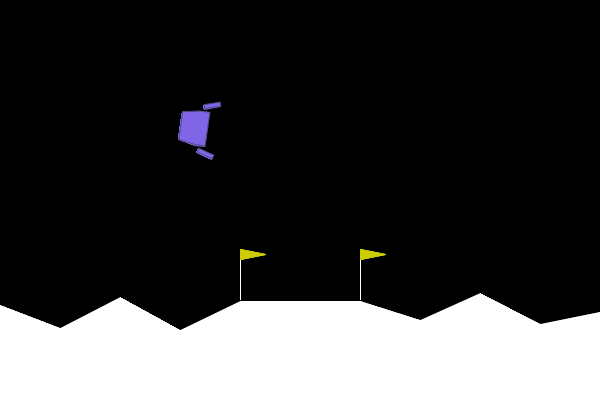lander: (174, 96, 222, 161)
